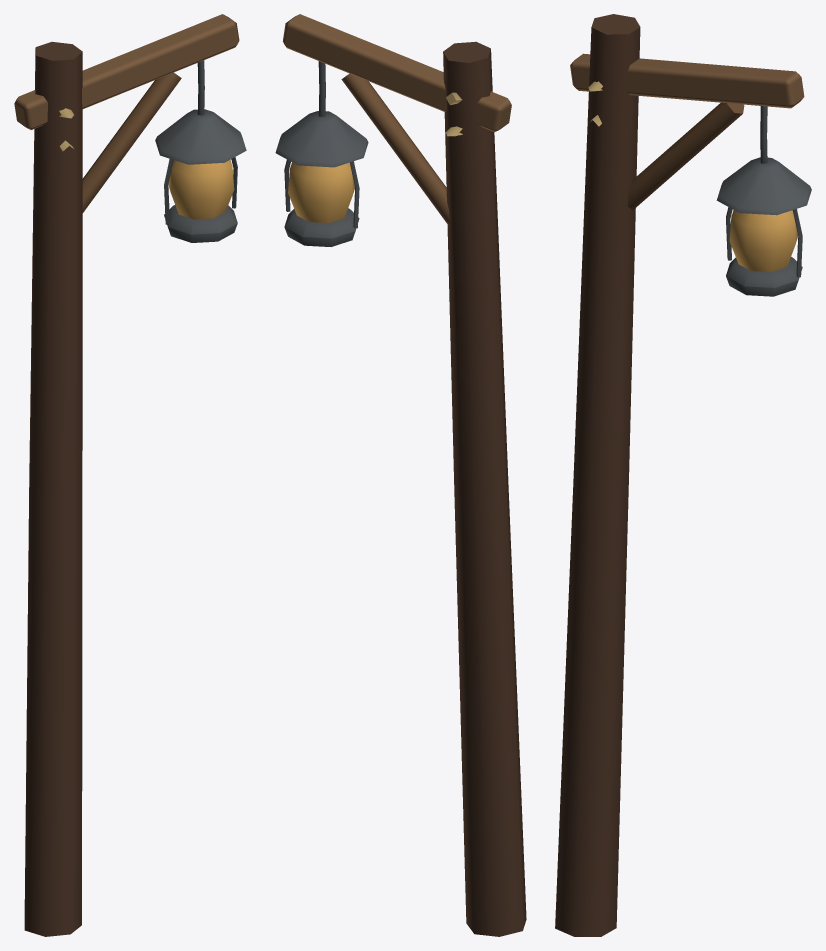
Rendered from lantern_post.glb.
3 renders of one model, left to right at view 1: azimuth 30°, elevation 25°; view 2: azimuth 150°, elevation 25°; view 3: azimuth 330°, elevation 25°, orthographic. The views are drawn at different scales.
Parts seen in each view (by area): view 1: lantern_post; view 2: lantern_post; view 3: lantern_post.
Boxes of the visible parts, <box> form: lantern_post: <box>14,14,246,936</box>; lantern_post: <box>275,14,526,936</box>; lantern_post: <box>555,14,811,936</box>.
Size of the model in its own units: 0.8311 by 3.01 by 0.3144.
